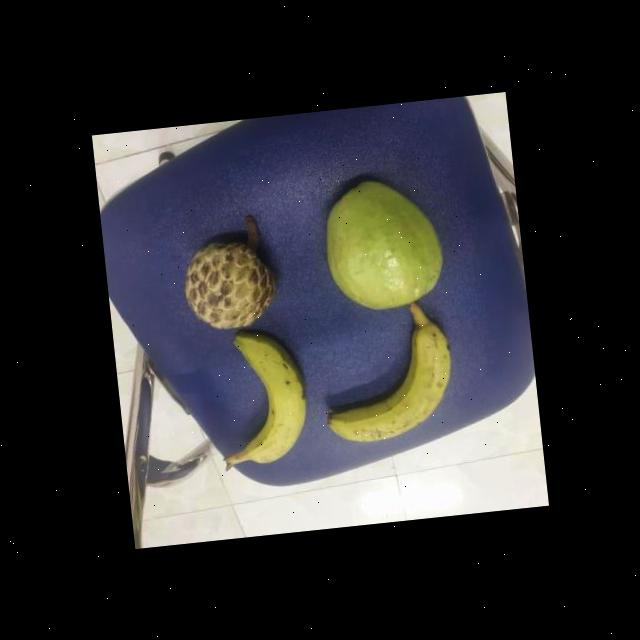Sakya fruit: (175, 236, 280, 339)
banana: (313, 312, 464, 448), (224, 326, 314, 476)
guava: (318, 174, 451, 318)
